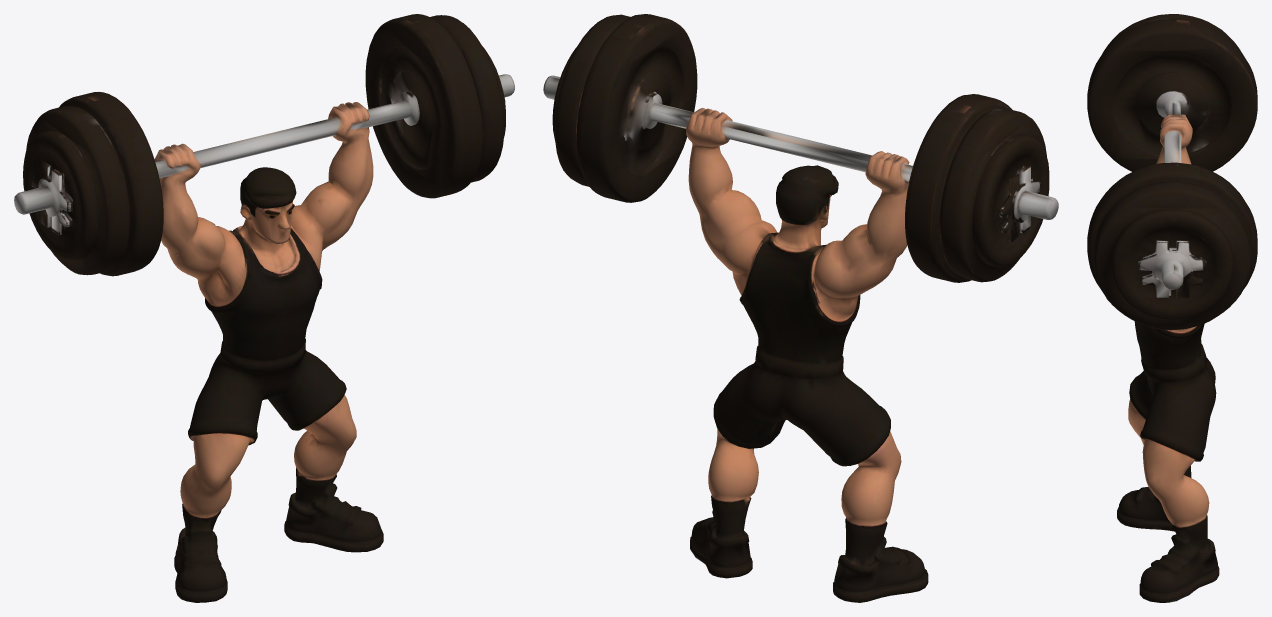
The model's file is a_barbell_6c74f40a_v3.glb.
The picture shows the model from 3 angles, left to right: view 1: azimuth 30°, elevation 25°; view 2: azimuth 150°, elevation 25°; view 3: azimuth 270°, elevation 25°; orthographic projection. The views are drawn at different scales.
Visible parts, largest first — view 1: material; view 2: material; view 3: material.
Boxes of the visible parts, left/top/right/bottom form: material: left=14, top=14, right=514, bottom=602; material: left=543, top=14, right=1058, bottom=602; material: left=1087, top=14, right=1257, bottom=602.
Bounding box in the file's own units: 1.9 × 1.85 × 0.6191.
1 material, 1 textured.
